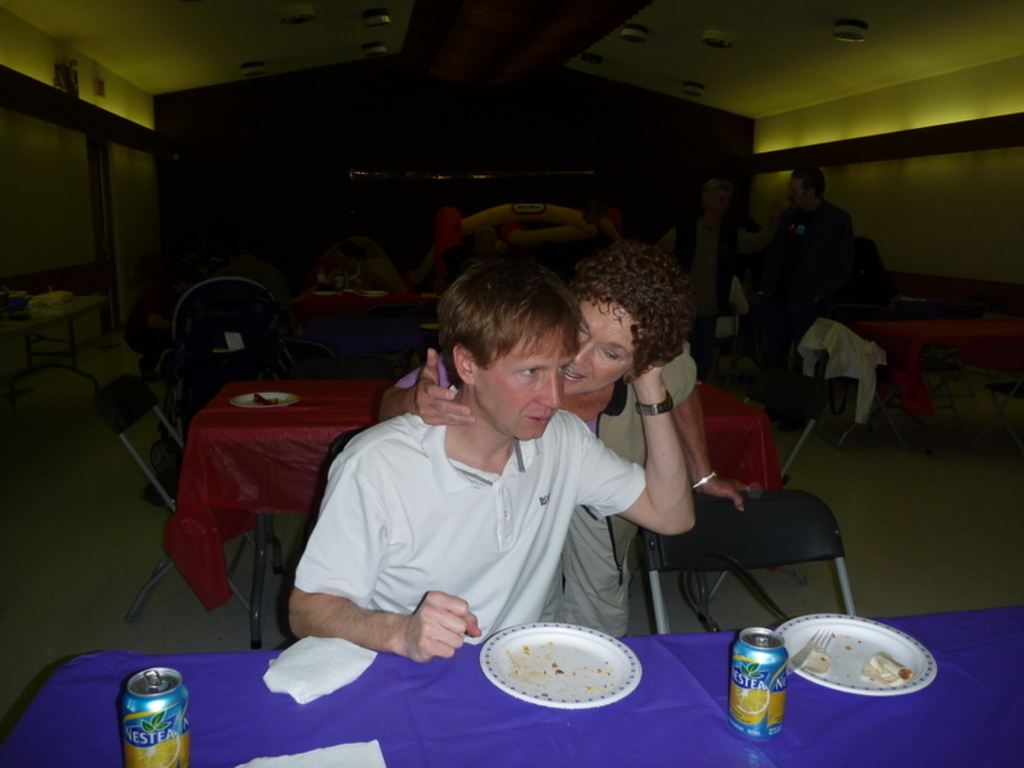plate: (771, 611, 943, 706), (469, 623, 647, 710)
